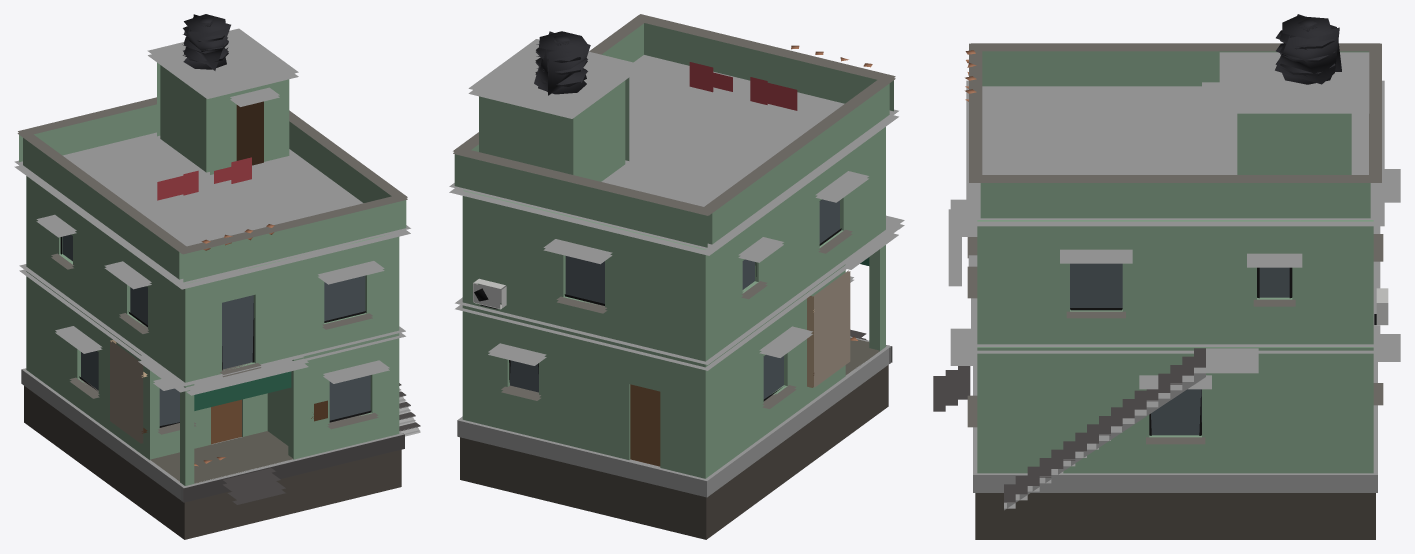
The model's file is tn_house_7x9_2_far.glb.
3 views of the same model, side by side, from view 1: azimuth 30°, elevation 25°; view 2: azimuth 150°, elevation 25°; view 3: azimuth 270°, elevation 25° (orthographic). The views are drawn at different scales.
Visible parts, largest first — view 1: tn_house_7x9_2; view 2: tn_house_7x9_2; view 3: tn_house_7x9_2.
Boxes of the visible parts, x1,y1,x2,y2 form: tn_house_7x9_2: (14,14,420,539); tn_house_7x9_2: (449,14,904,539); tn_house_7x9_2: (933,14,1400,539).
Size of the model in its own units: 8.66 by 12 by 10.61.
